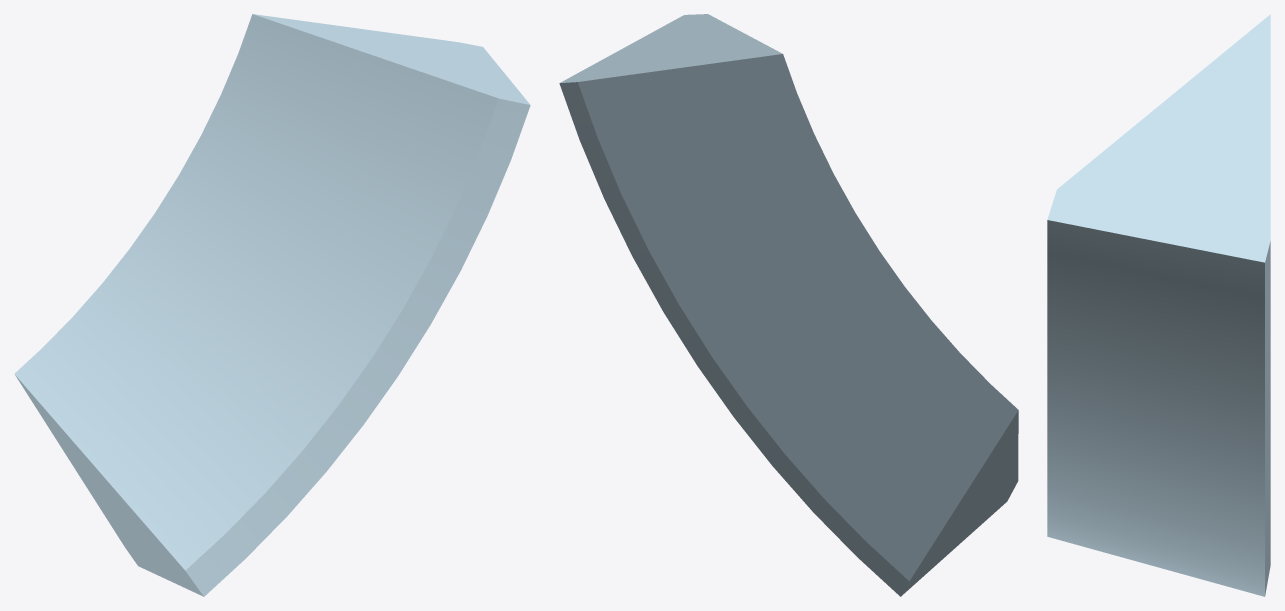
Rendered from Sub_7_Cell_3_3.gltf.
3 views of the same model, side by side, from view 1: azimuth 30°, elevation 25°; view 2: azimuth 150°, elevation 25°; view 3: azimuth 270°, elevation 25° (orthographic). The views are drawn at different scales.
Parts seen in each view (by area): view 1: Sub_7_Cell_3_3; view 2: Sub_7_Cell_3_3; view 3: Sub_7_Cell_3_3.
Boxes of the visible parts, x1,y1,x2,y2 form: Sub_7_Cell_3_3: [14, 14, 530, 596]; Sub_7_Cell_3_3: [559, 14, 1018, 596]; Sub_7_Cell_3_3: [1047, 14, 1270, 596].
Bounding box in the file's own units: 0.1092 × 0.1168 × 0.0362.
